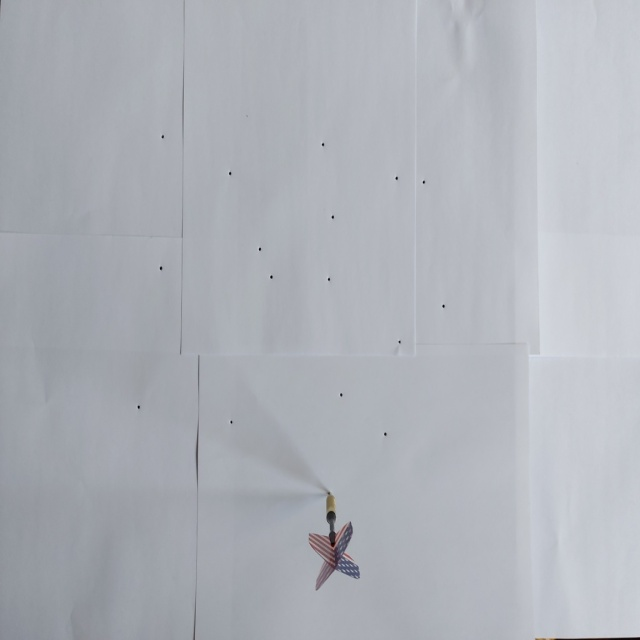Dart: (290, 485, 368, 590)
